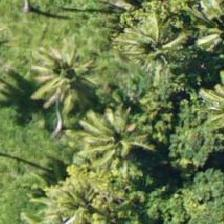coconut_tree: (67, 104, 157, 194), (122, 1, 212, 91), (1, 44, 91, 134), (28, 150, 118, 223), (175, 0, 223, 62)
